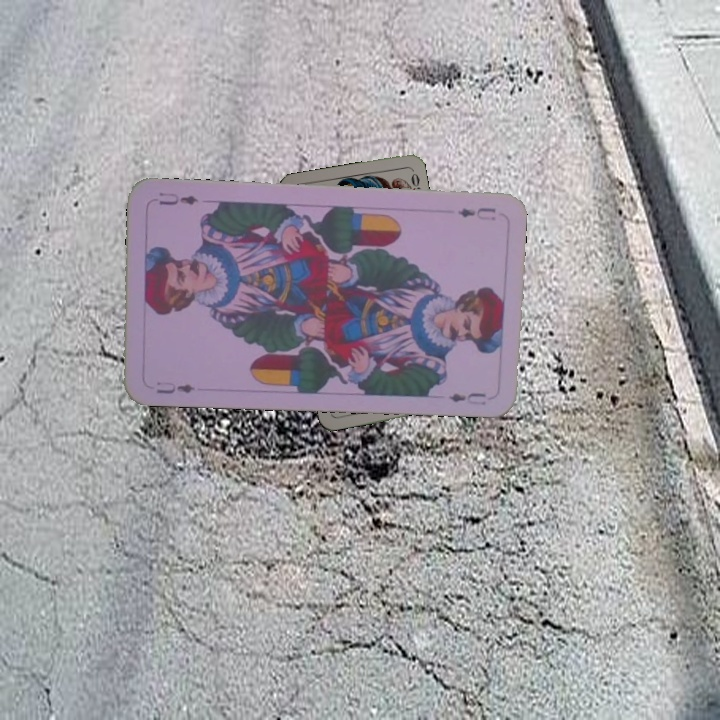EU: (453, 203, 499, 223), (152, 377, 197, 396)
